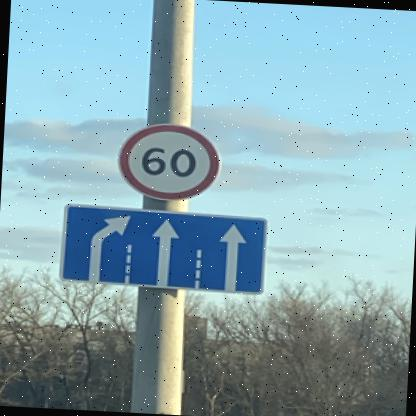speedlimit: (112, 119, 218, 202)
